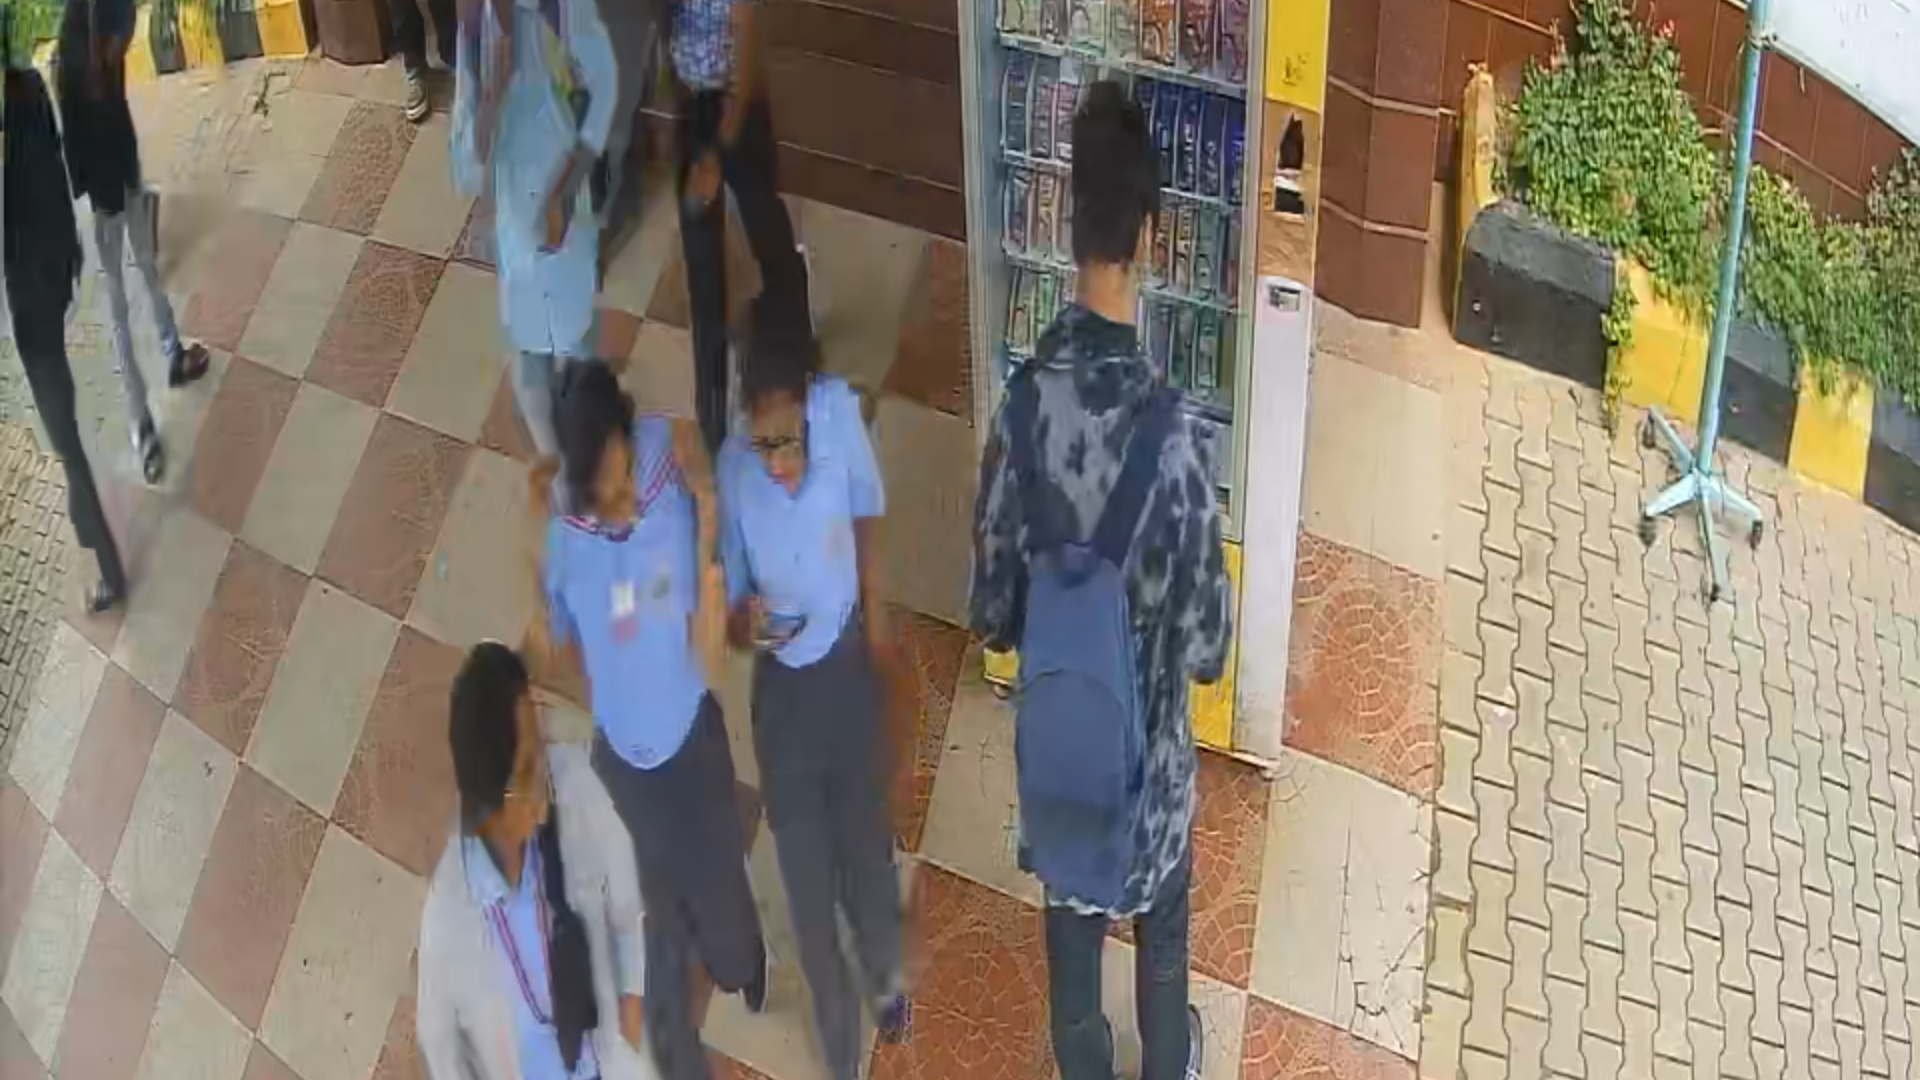intruder: (518, 349, 802, 1025), (716, 316, 936, 1031)
not intruder: (407, 651, 657, 1080)
